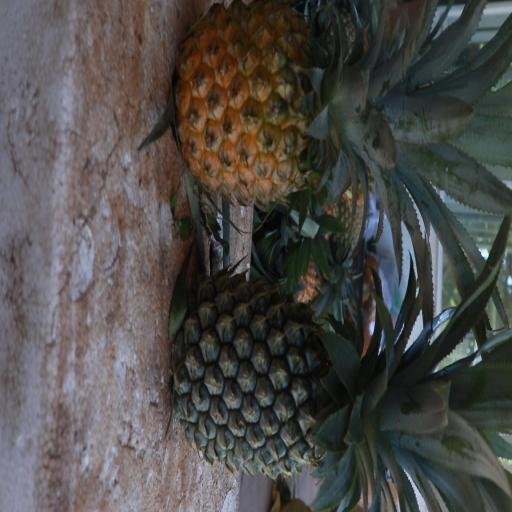Pineapple - v8 v1: (173, 8, 470, 197)
